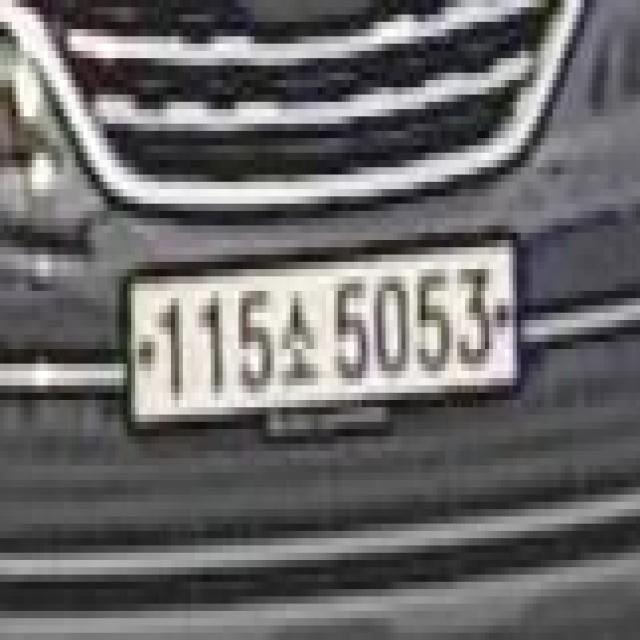illegal_plate: (118, 234, 528, 447)
